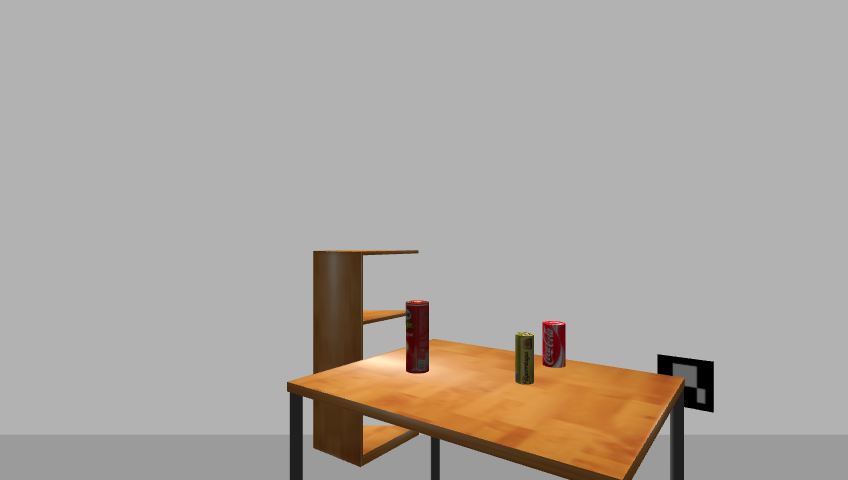aruco marker: (653, 352, 719, 414)
biscuits pack: (513, 332, 535, 385)
bookshelf: (306, 246, 424, 471)
coke can: (540, 320, 568, 369)
dinner table: (281, 341, 695, 479)
pringles can: (403, 300, 431, 376)
